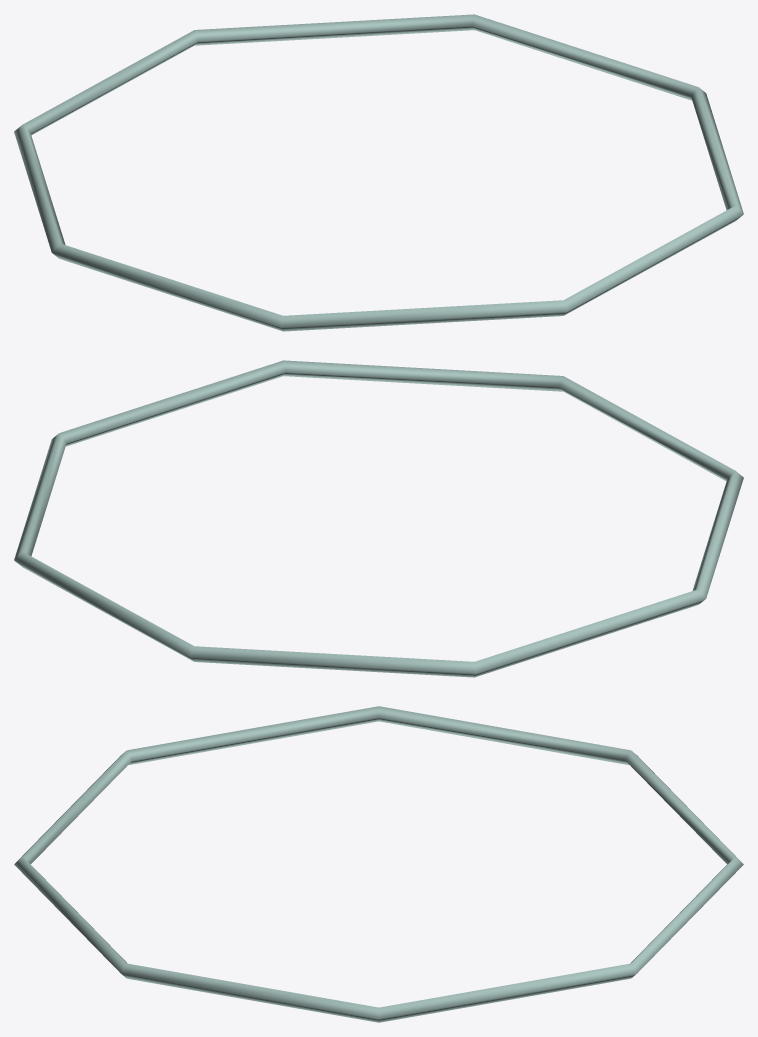
File: floor_build_outline.glb
3 renders of one model, top to bottom at view 1: azimuth 30°, elevation 25°; view 2: azimuth 150°, elevation 25°; view 3: azimuth 270°, elevation 25°, orthographic. The views are drawn at different scales.
Parts seen in each view (by area): view 1: floor_build_outline; view 2: floor_build_outline; view 3: floor_build_outline.
Boxes of the visible parts, bbox=[...] form: floor_build_outline: bbox=[14, 14, 743, 331]; floor_build_outline: bbox=[14, 360, 743, 677]; floor_build_outline: bbox=[14, 706, 743, 1022].
Bounding box in the file's own units: 2.17 × 0.05 × 2.17.
